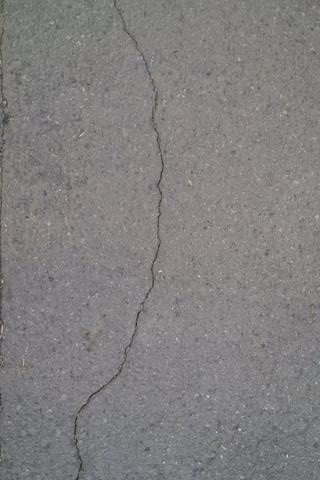A: (73, 1, 169, 480)
